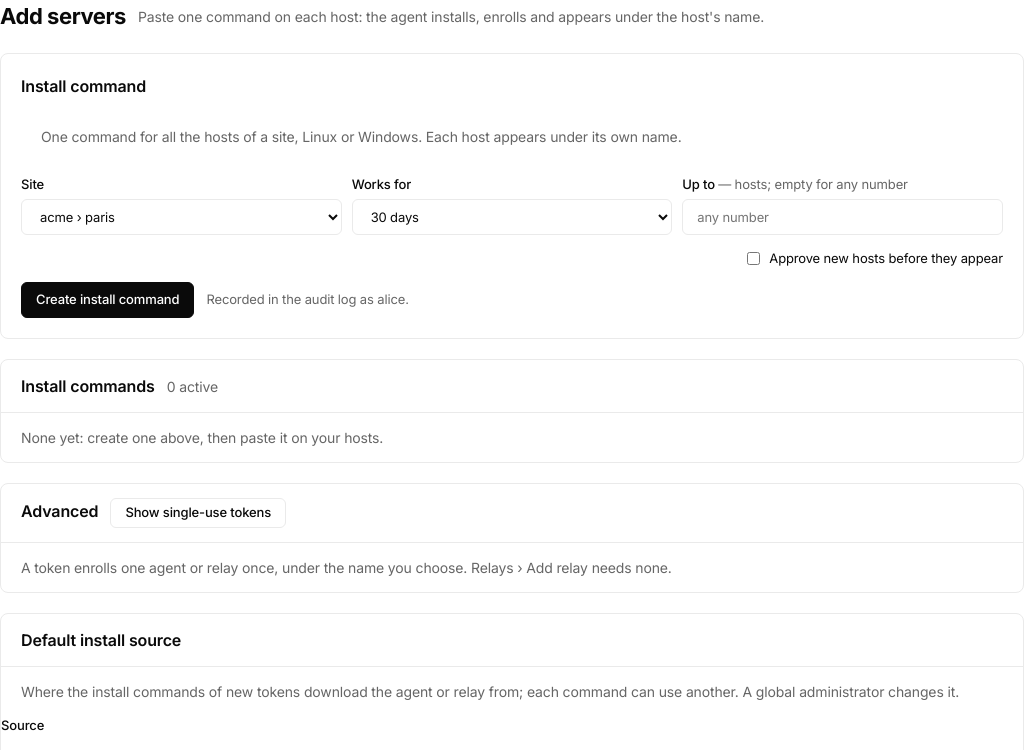
TokensAdmin › leads with one install command for a site, shown once
The width and height of the screenshot is (1024, 750).
expect the text "None yet: create one above, then paste it on your hosts." is shown: met, box [21, 429, 383, 446]
expect the dropdown labelled "Works for" shows "30 days": met, box [352, 198, 672, 234]
Click the button "Create install command" at (108, 300), box [21, 282, 194, 318]
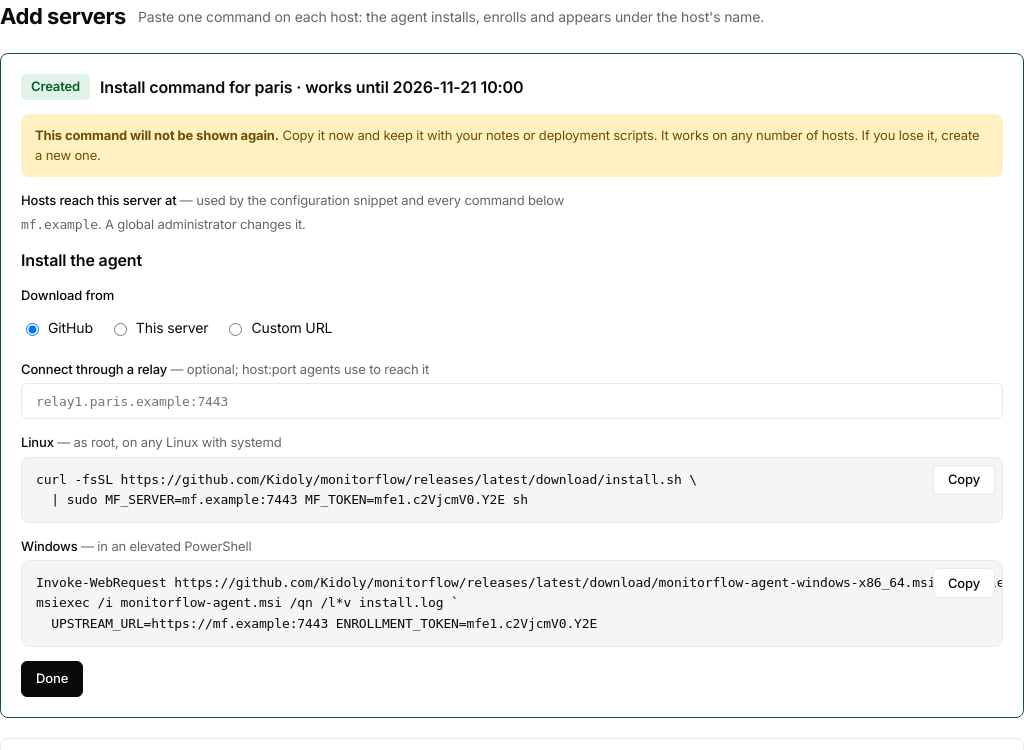
expect the message shows "This command will not be shown again. Copy it now and keep it with your notes or deployment scripts. It works on any number of hosts.": met, box [21, 114, 1003, 177]
Click the button "Done" at (52, 679), box [21, 661, 83, 697]
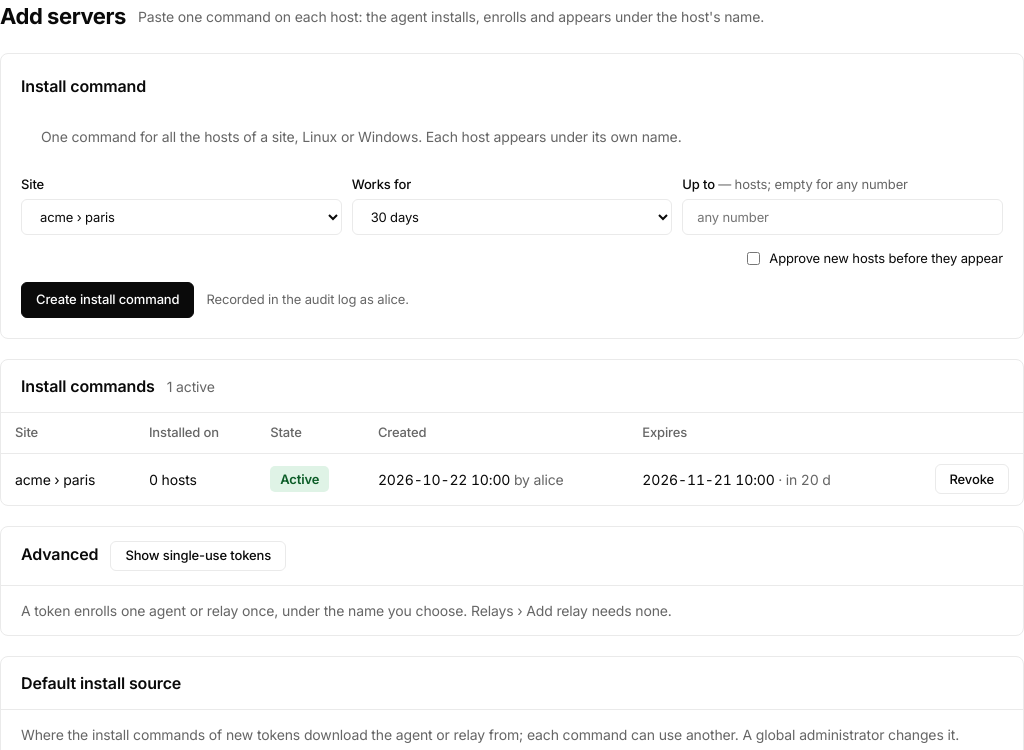
expect the text "mfe1.c2VjcmV0.Y2E" is gone: met
expect the form "Install command" is shown: met, box [0, 53, 1023, 339]
